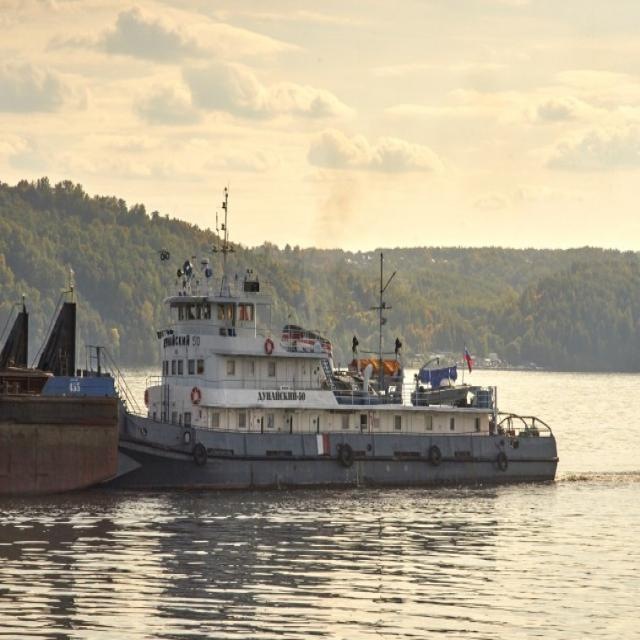tugboat: (116, 244, 564, 496)
